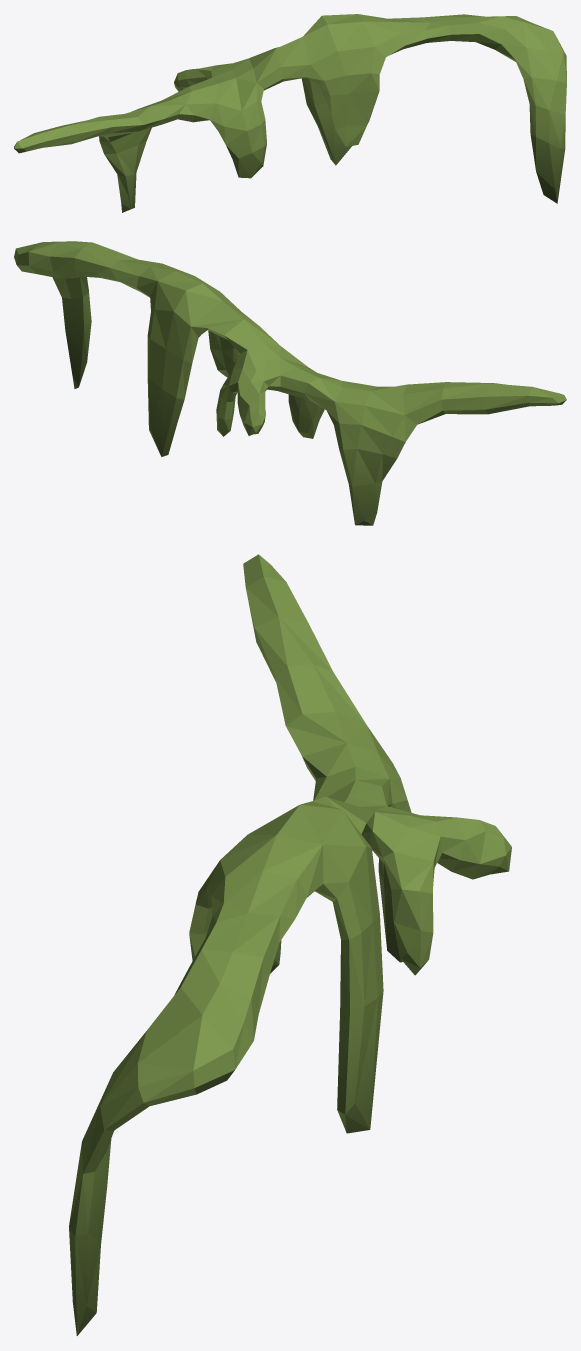
Rendered from Jungle_Branch_C_Grass.fbx.
The picture shows the model from 3 angles, top to bottom: view 1: azimuth 30°, elevation 25°; view 2: azimuth 150°, elevation 25°; view 3: azimuth 270°, elevation 25°; orthographic projection. The views are drawn at different scales.
Parts seen in each view (by area): view 1: Jungle_Branch_C_Grass; view 2: Jungle_Branch_C_Grass; view 3: Jungle_Branch_C_Grass.
Part boxes in pixels (box(x1,y1,x2,y2)): Jungle_Branch_C_Grass: box(14, 14, 566, 212); Jungle_Branch_C_Grass: box(14, 241, 566, 525); Jungle_Branch_C_Grass: box(69, 554, 511, 1335).
Bounding box in the file's own units: 6.84 × 2.25 × 2.5.
Materials: 1 (1 with a texture image).
